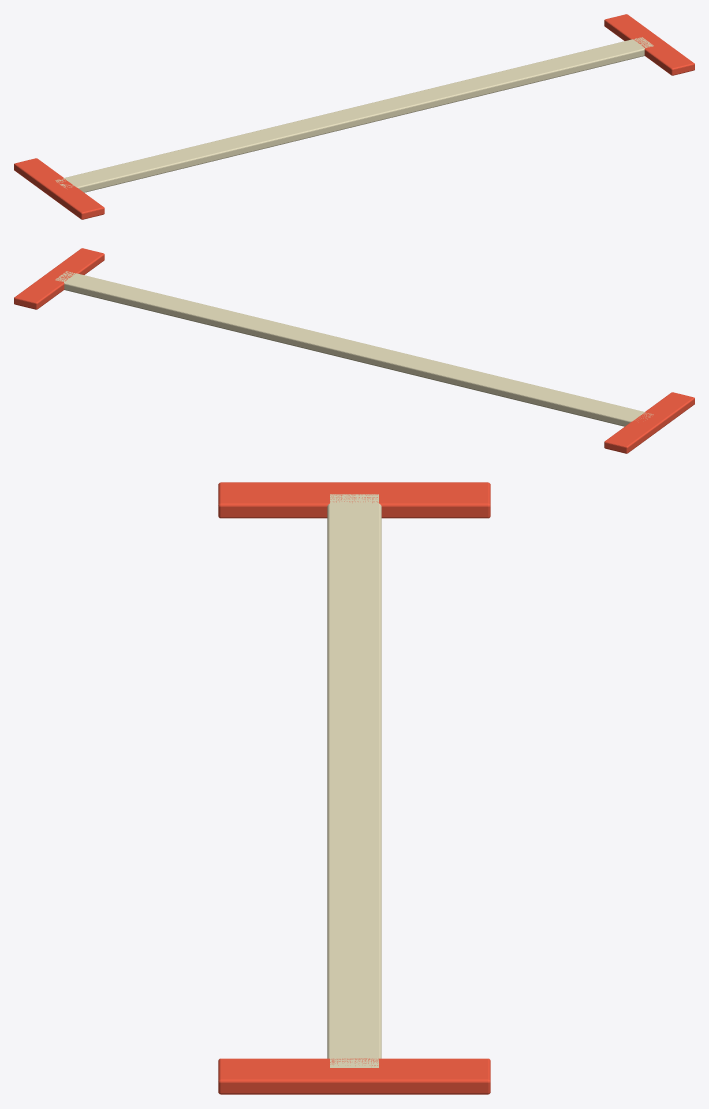
The model's file is dock_thumper_preview_stage.glb.
The picture shows the model from 3 angles, top to bottom: view 1: azimuth 30°, elevation 25°; view 2: azimuth 150°, elevation 25°; view 3: azimuth 270°, elevation 25°; orthographic projection. The views are drawn at different scales.
Visible parts, largest first — view 1: MetreReference, MetreTick_-2.5, MetreTick_-1.5; view 2: MetreReference, MetreTick_-2.5, MetreTick_-1.5; view 3: MetreReference, MetreTick_-1.5, MetreTick_-2.5.
Part boxes in pixels (x1,y1,x2,y2): MetreReference: [55, 37, 653, 192]; MetreTick_-2.5: [14, 158, 104, 219]; MetreTick_-1.5: [604, 14, 694, 75]; MetreReference: [55, 271, 653, 426]; MetreTick_-2.5: [604, 392, 694, 453]; MetreTick_-1.5: [14, 248, 104, 309]; MetreReference: [327, 494, 381, 1067]; MetreTick_-1.5: [218, 1058, 490, 1094]; MetreTick_-2.5: [218, 482, 490, 518].
Size of what is drawn, in the model's own units: 1.04 by 0.012 by 0.2.
